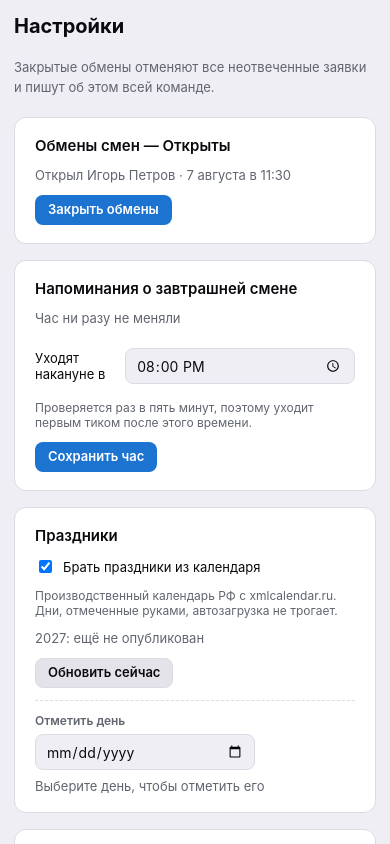
Test case: SettingsScreen › ошибка сохранения показывается рядом с тумблером, а не вместо него
Click the button "Закрыть обмены" at [103, 210], box [35,195,172,225]
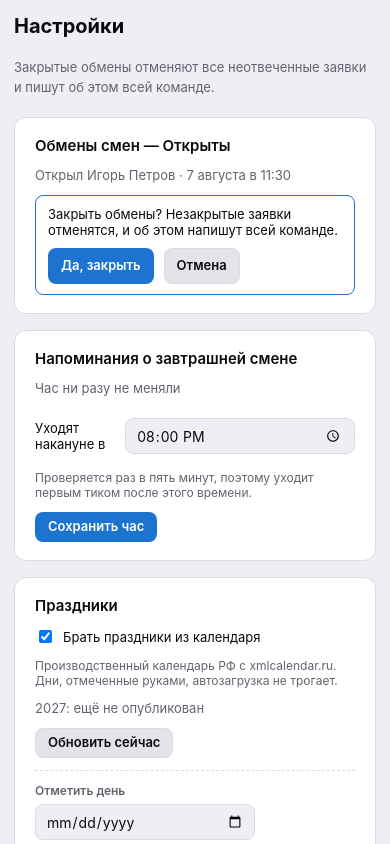
Click the button "Да, закрыть" at [101, 266], box [48,248,154,284]
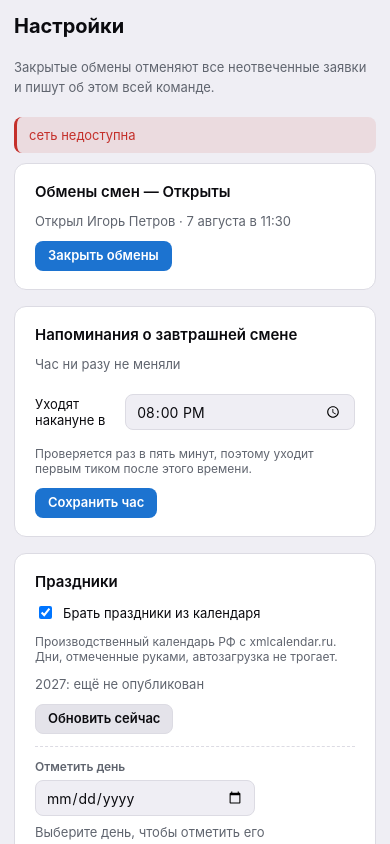
Expected: the button "Закрыть обмены" is shown, [35,241,172,271]
Now the text "сеть недоступна" is shown, box [14,117,376,153]
